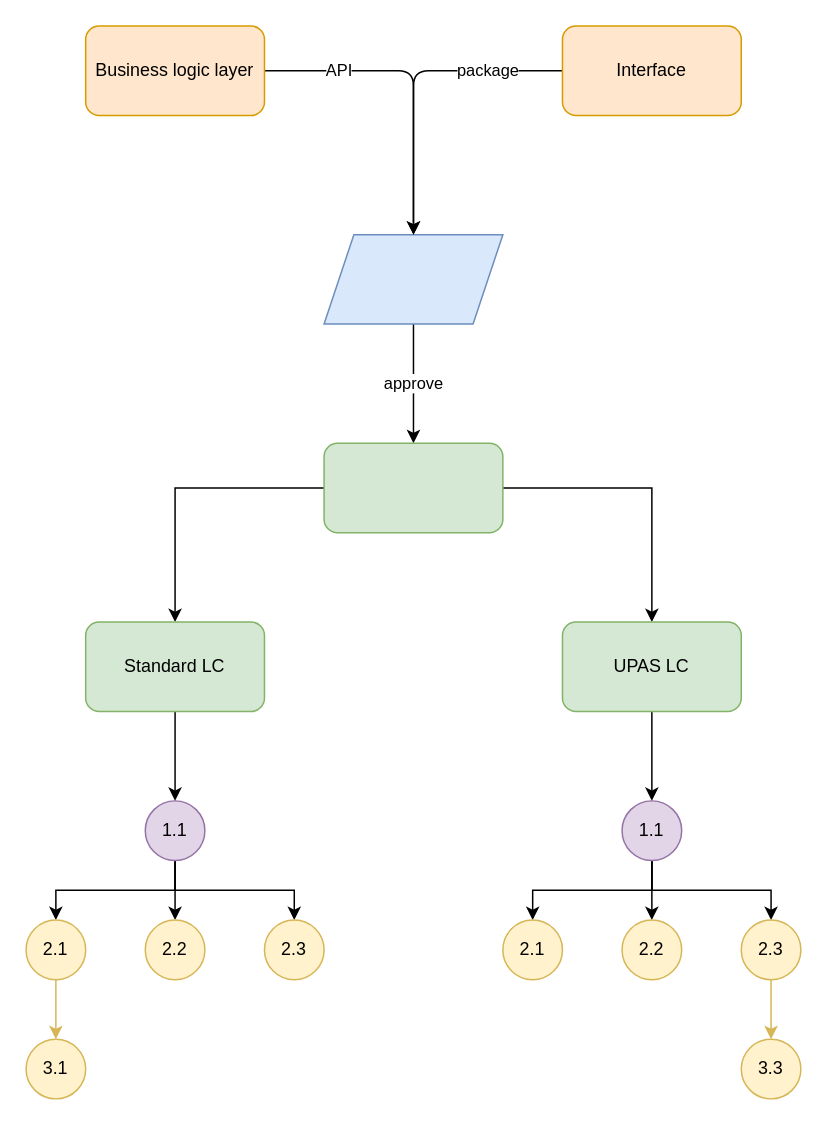
Image size: 827x1125. Some labels were removed from this diagram. The centre of each missing label's shape, as x and y in pixels:
"Middleware" belongs at pixel 413 278.
"Router Service" belongs at pixel 413 487.
